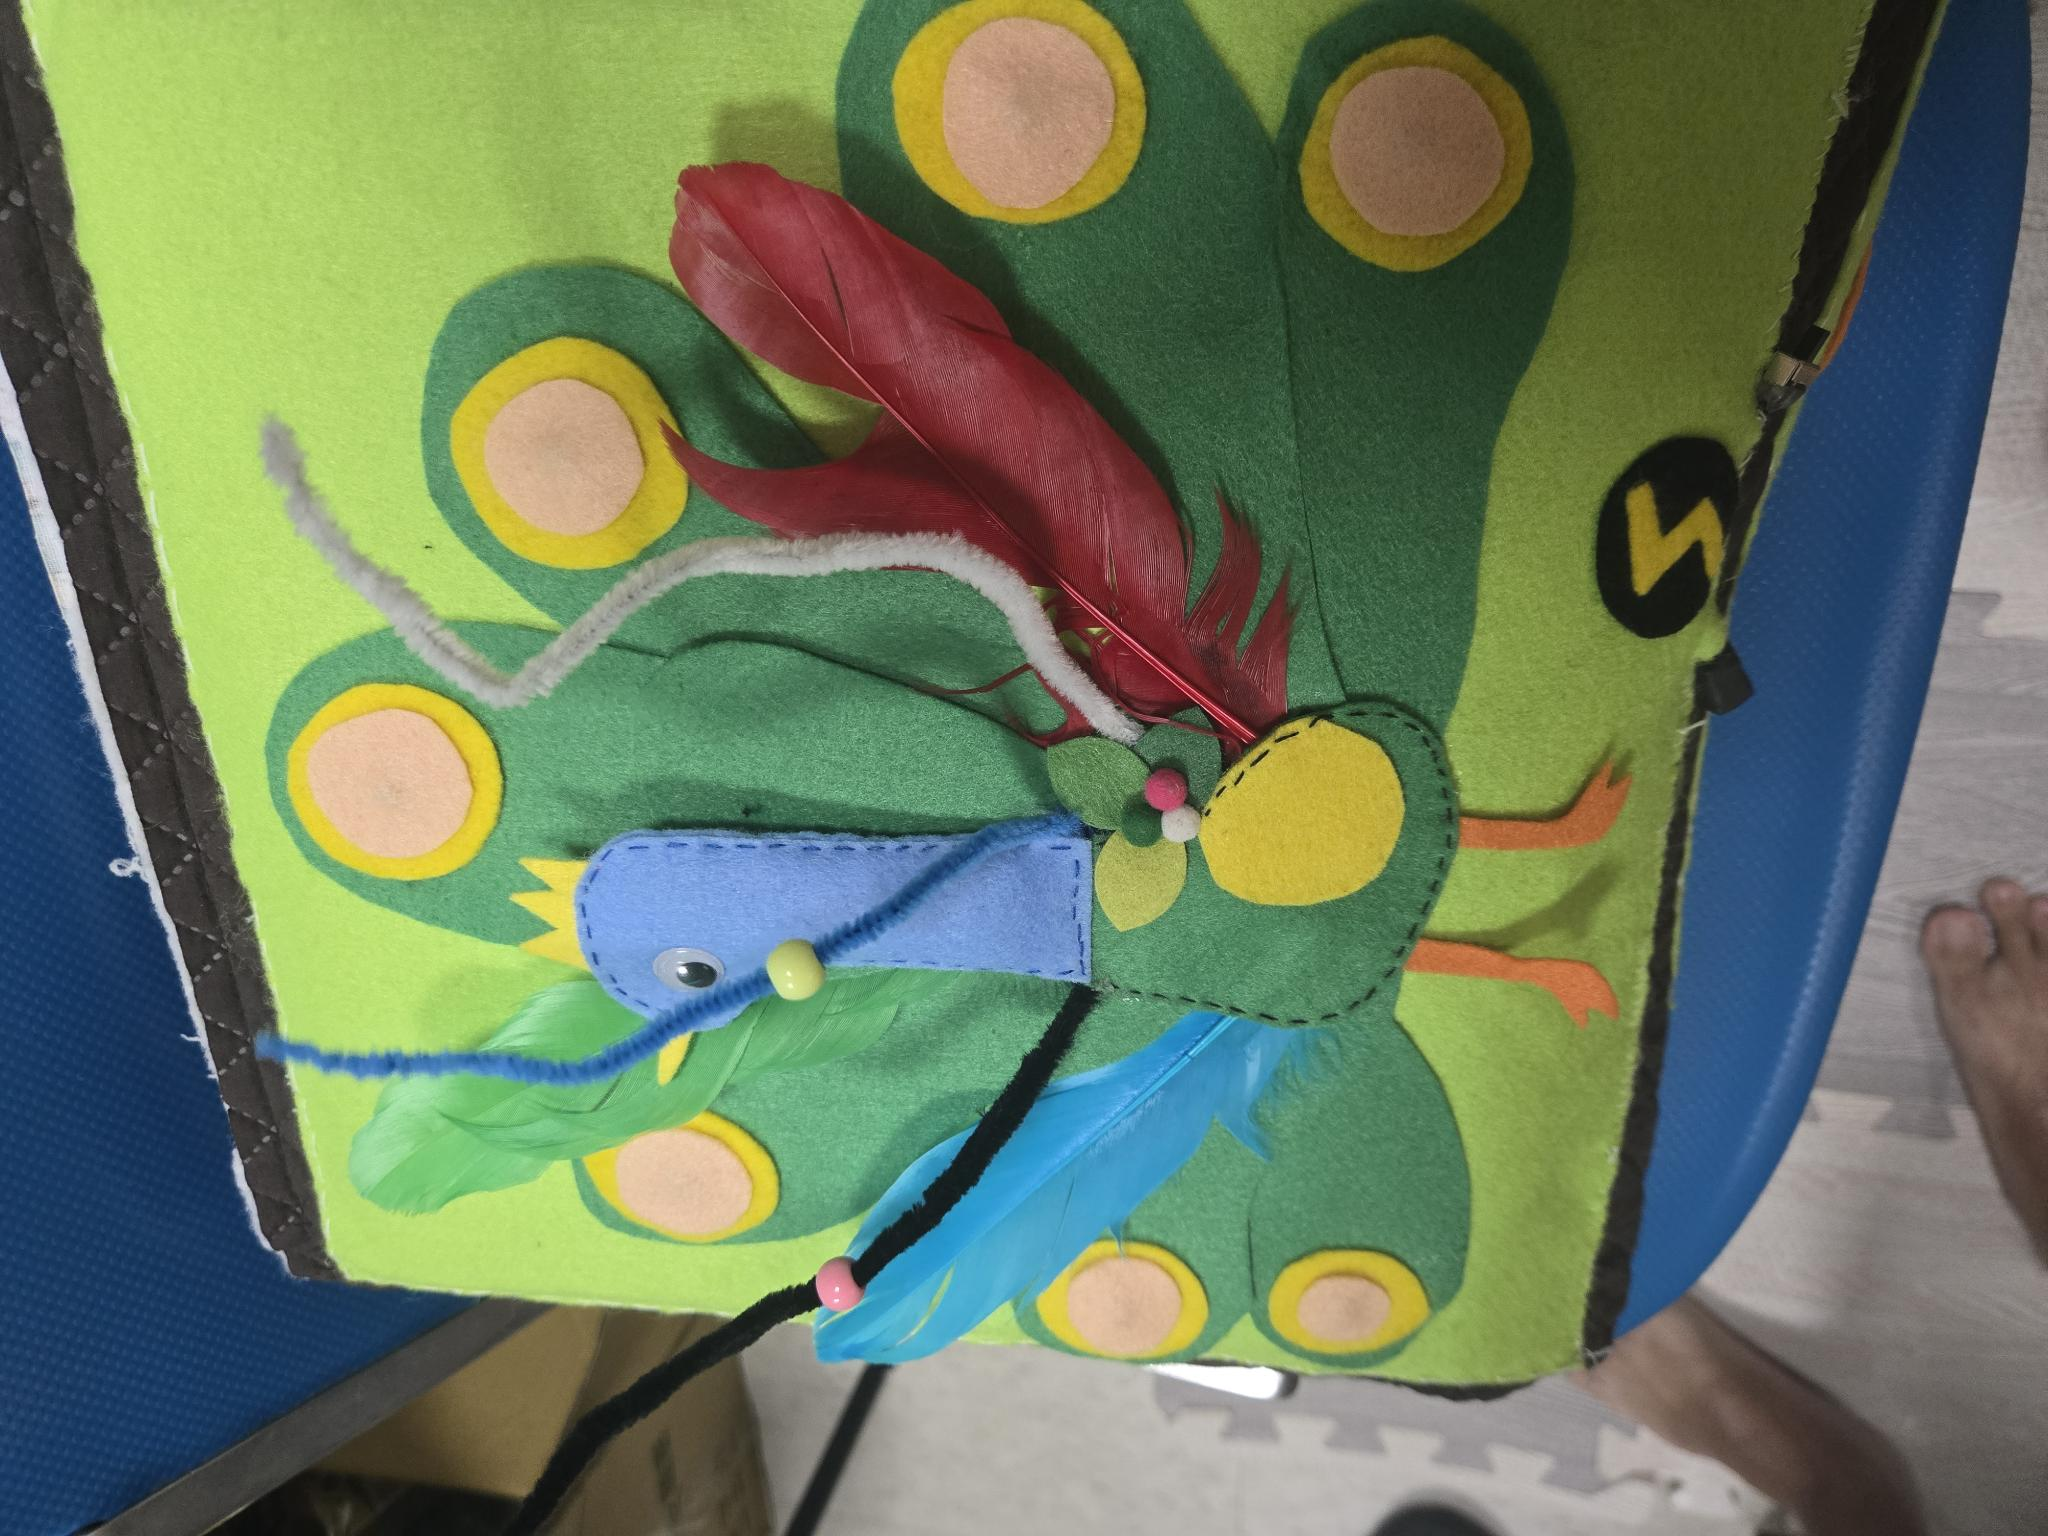bead: (758, 937, 837, 1018), (806, 1250, 863, 1328)
